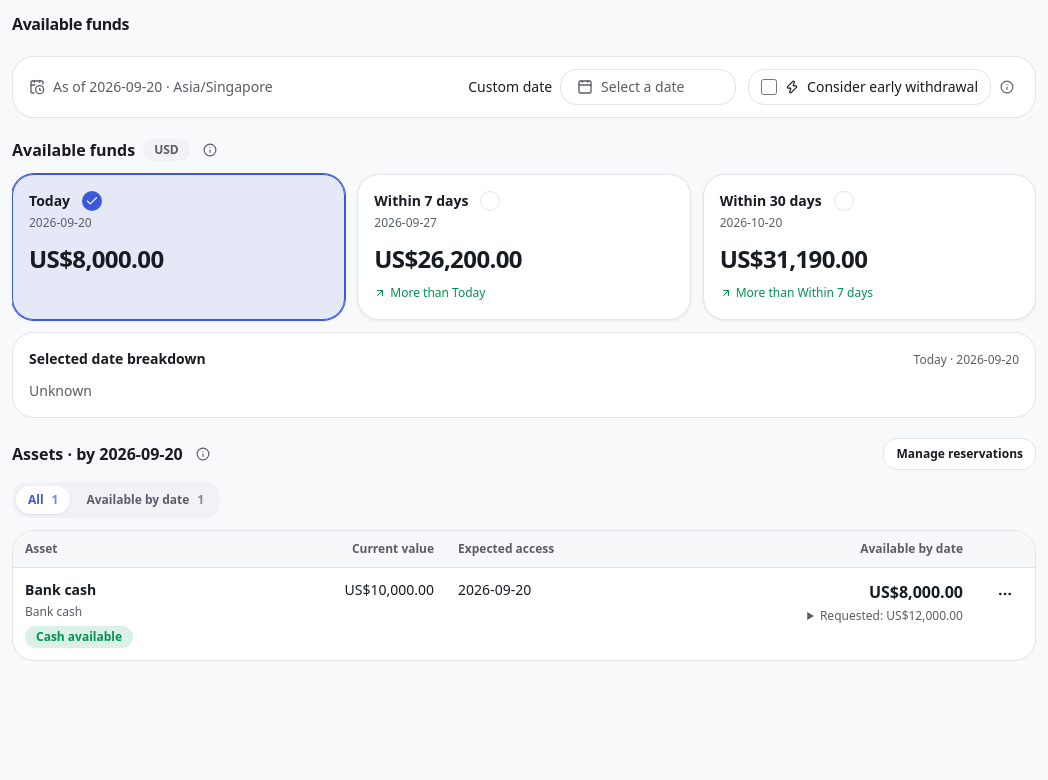
Test case: shows requested, applied and shortfall reservations separately
Click the heading "Requested: US$12,000.00" at [891, 616], box top-left (820, 607), bottom-right (963, 624)
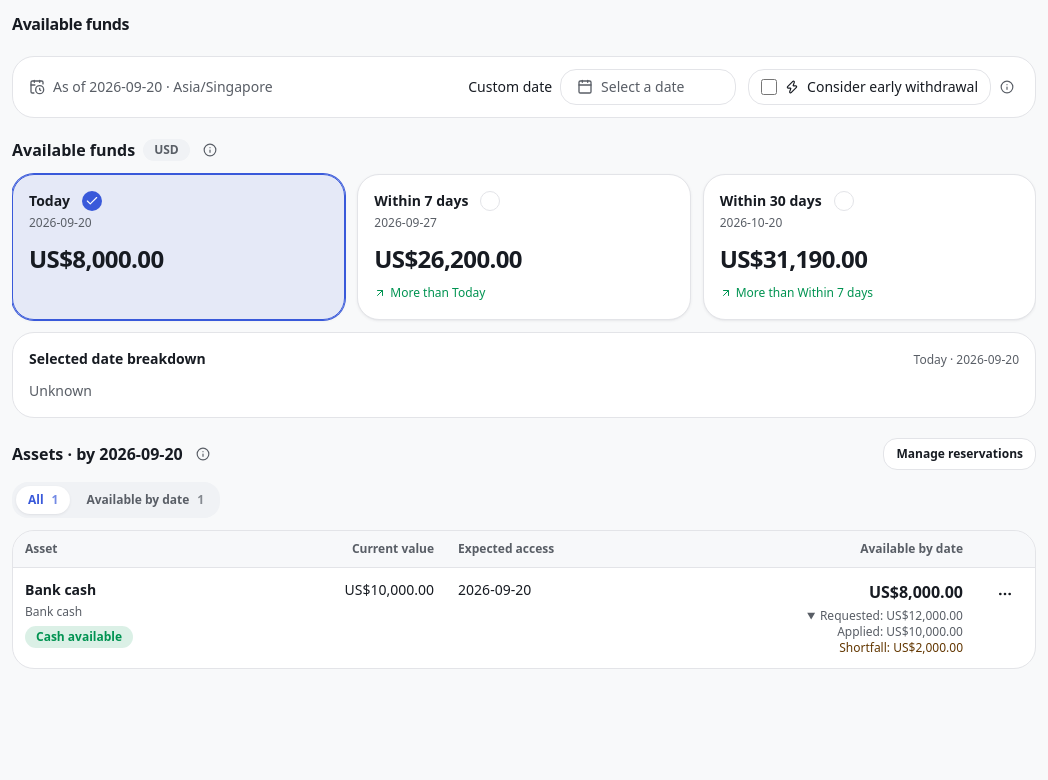
Result: the text "Applied: US$10,000.00" is shown at top-left (837, 623), bottom-right (963, 640)
Result: the text "Shortfall: US$2,000.00" is shown at top-left (839, 639), bottom-right (963, 656)
